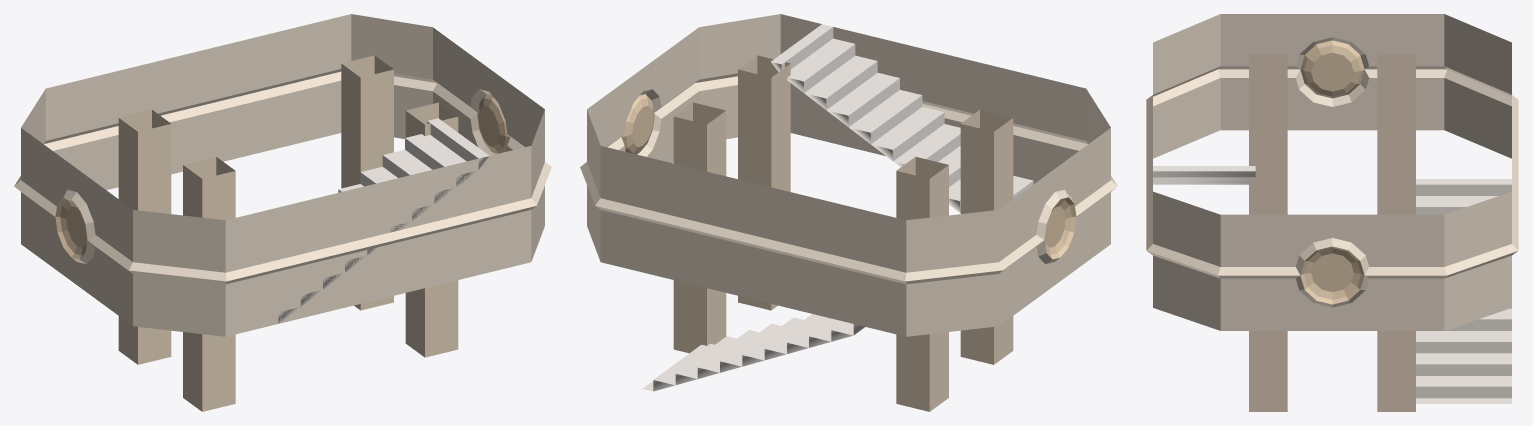
File: LibraryStairsNoColliders.glb
3 views of the same model, side by side, from view 1: azimuth 30°, elevation 25°; view 2: azimuth 150°, elevation 25°; view 3: azimuth 270°, elevation 25° (orthographic).
Parts seen in each view (by area): view 1: object1.029, object1.016, object1.028, object1.015, object1.008, object1.002, object1.038, object1.037, object1.014, object1.039, object1.021, object1.032 (+1 smaller); view 2: object1.016, object1.014, object1.032, object1.029, object1.002, object1.008, object1.015, object1.037, object1.038, object1.028, object1.036, object1.039 (+2 smaller); view 3: object1.021, object1.015, object1.002, object1.008, object1.014, object1.028, object1, object1.039, object1.036, object1.037, object1.038, object1.032 (+2 smaller).
Boxes of the visible parts, bbox=[...] form: object1.029: bbox=[267, 156, 492, 326]; object1.016: bbox=[84, 24, 309, 190]; object1.028: bbox=[104, 192, 270, 336]; object1.015: bbox=[307, 14, 462, 140]; object1.008: bbox=[39, 145, 109, 308]; object1.002: bbox=[490, 92, 551, 272]; object1.038: bbox=[118, 109, 171, 364]; object1.037: bbox=[183, 156, 235, 411]; object1.014: bbox=[14, 78, 87, 261]; object1.039: bbox=[341, 55, 393, 310]; object1.021: bbox=[456, 45, 524, 155]; object1.032: bbox=[278, 118, 489, 323]; object1.016: bbox=[639, 156, 864, 326]; object1.014: bbox=[861, 192, 1027, 336]; object1.032: bbox=[771, 24, 1033, 212]; object1.029: bbox=[822, 27, 1047, 183]; object1.002: bbox=[669, 14, 821, 140]; object1.008: bbox=[1022, 145, 1092, 308]; object1.015: bbox=[580, 92, 641, 272]; object1.037: bbox=[960, 109, 1013, 364]; object1.038: bbox=[896, 156, 948, 411]; object1.028: bbox=[1044, 78, 1117, 261]; object1.036: bbox=[738, 55, 790, 310]; object1.039: bbox=[673, 102, 726, 353]; object1.021: bbox=[1268, 214, 1396, 330]; object1.015: bbox=[1396, 191, 1518, 330]; object1.002: bbox=[1146, 191, 1268, 330]; object1.008: bbox=[1268, 14, 1396, 130]; object1.014: bbox=[1396, 14, 1518, 158]; object1.028: bbox=[1146, 14, 1268, 158]; object1: bbox=[1416, 179, 1511, 403]; object1.039: bbox=[1377, 163, 1415, 411]; object1.036: bbox=[1249, 163, 1287, 411]; object1.037: bbox=[1249, 54, 1287, 162]; object1.038: bbox=[1377, 54, 1415, 162]; object1.032: bbox=[1153, 166, 1255, 184].
Size of the model in its own units: 3.8 by 2 by 2.9.
